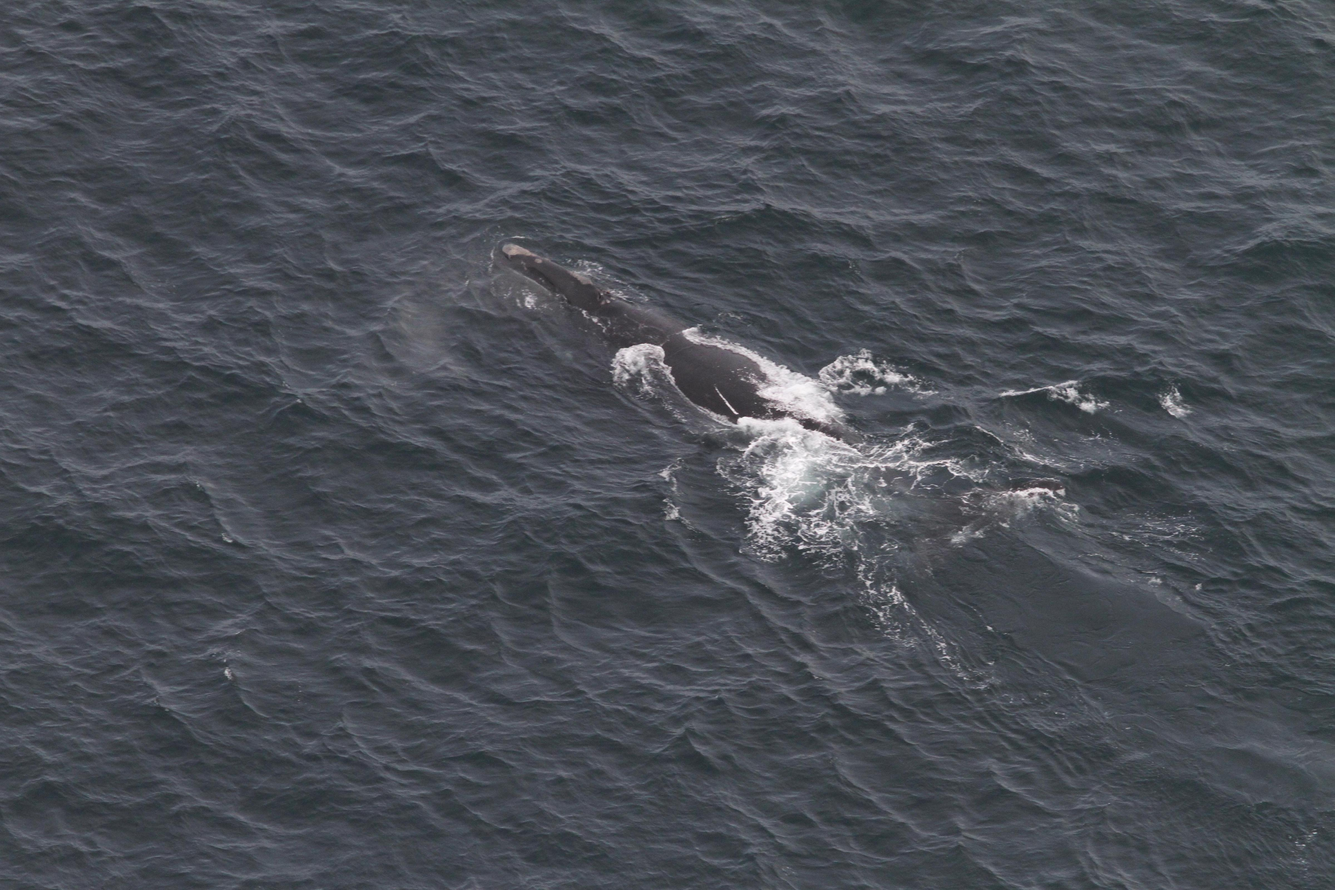whale: (481, 226, 1078, 573)
